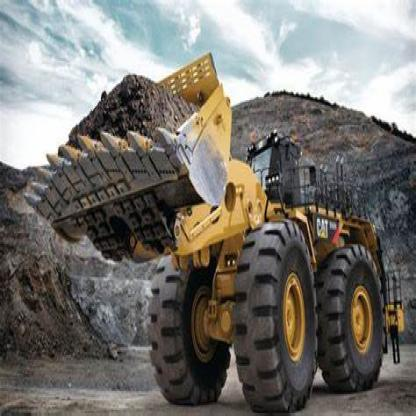bull_dozer/loader/grader: (28, 46, 407, 414)
